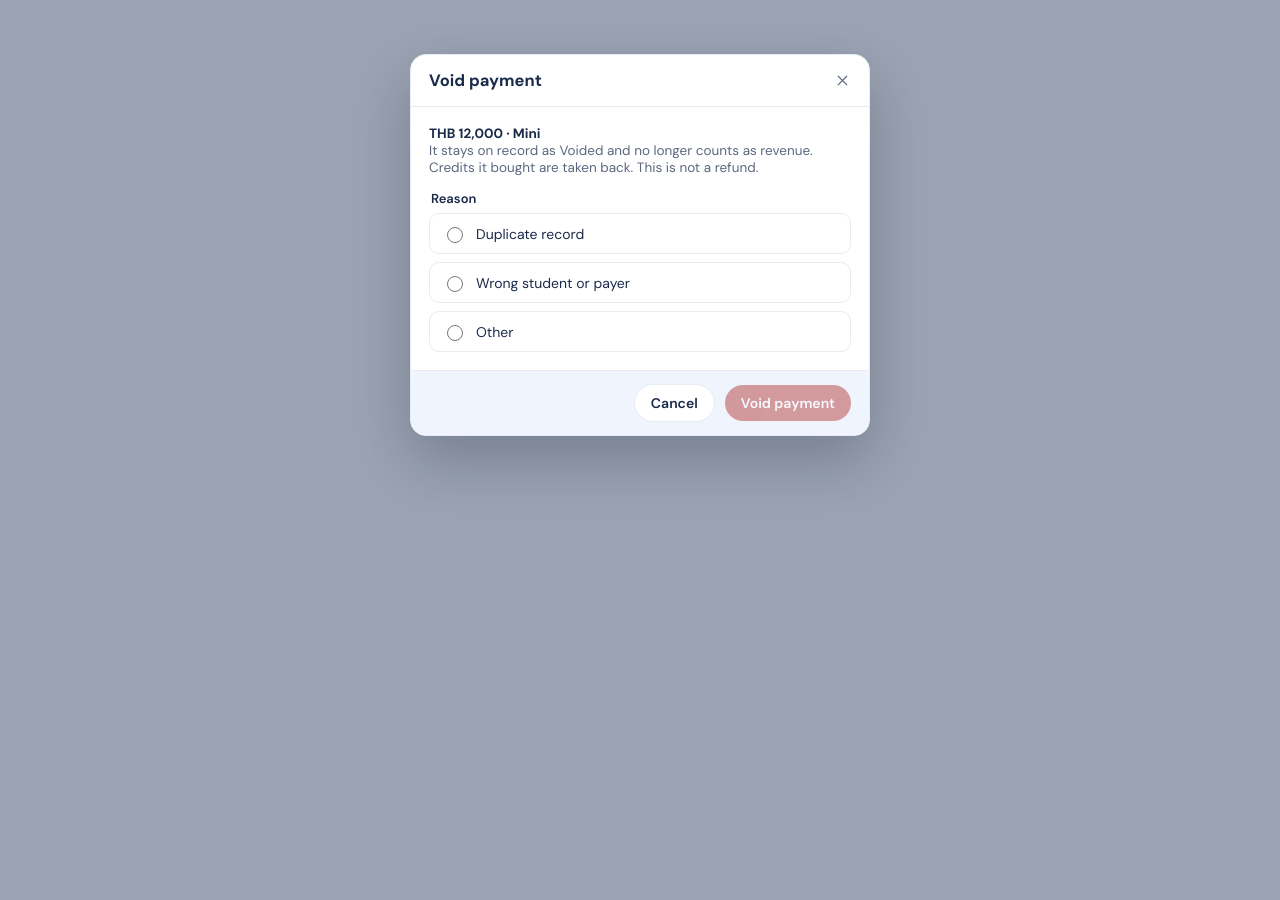
Scenario: the Void payment dialog › asks for words only for Other, and waits for them
Expected: the field labelled "Reason for voiding" is not shown
Step 1. Click the radio button labelled "Other" → coordinates (455, 333), box [447,325,463,341]
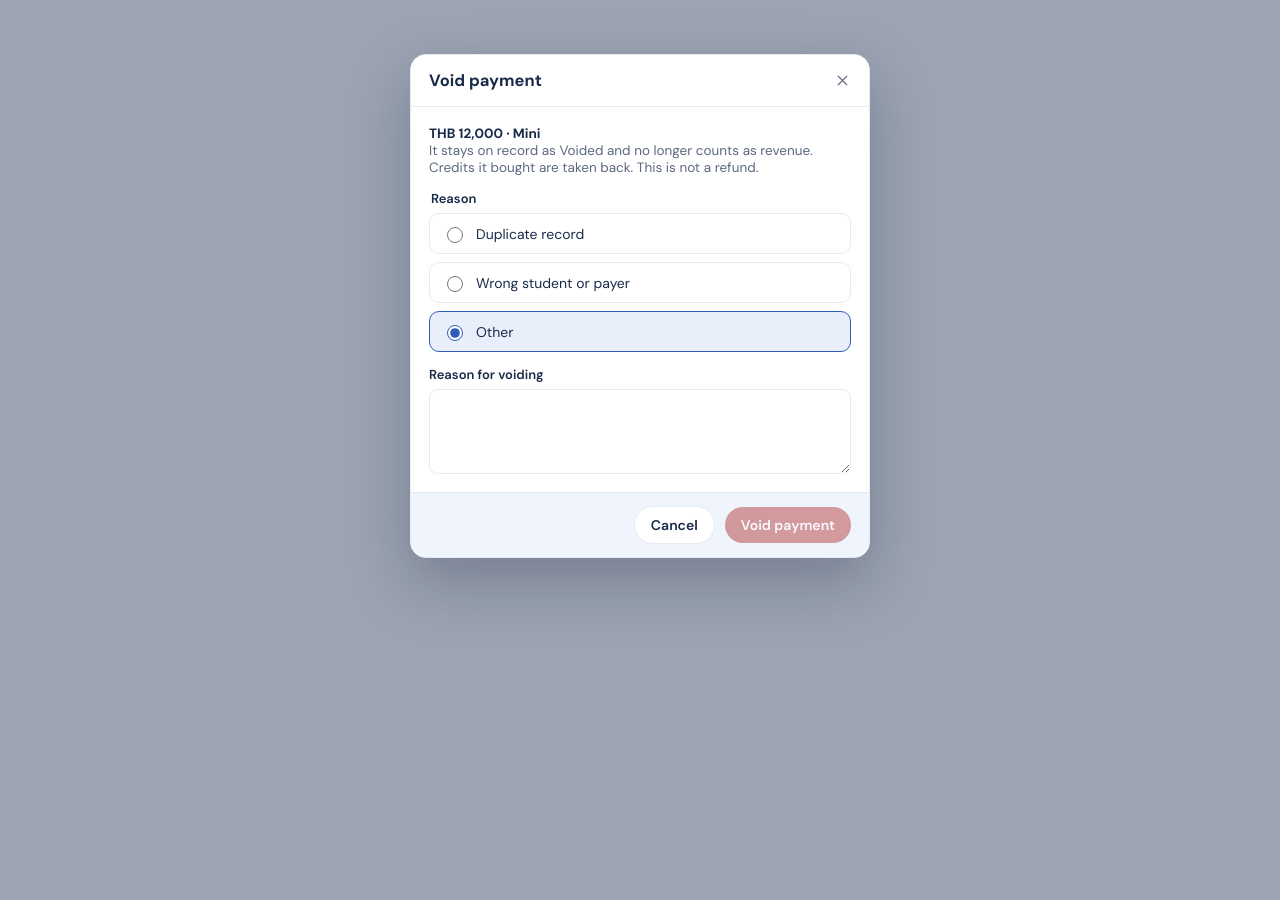
Expected: the button "Void payment" is disabled, [725,507,851,543]
Step 2. Type "Entered for the wrong family" into the text box labelled "Reason for voiding" → coordinates (640, 432), box [429,389,851,474]
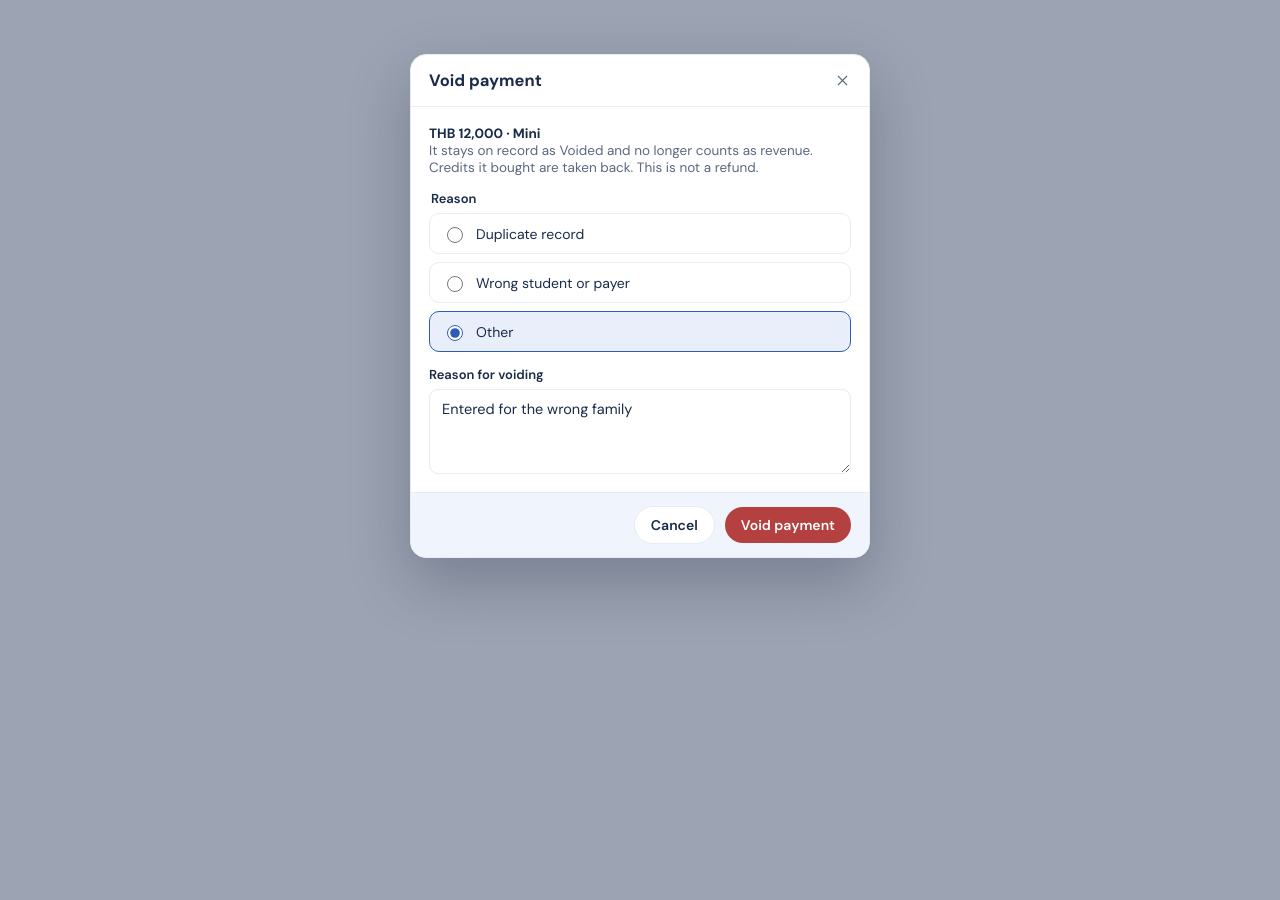
Expected: the button "Void payment" is enabled, [725,507,851,543]
Step 3. Click the radio button labelled "Wrong student or payer" → coordinates (455, 284), box [447,276,463,292]
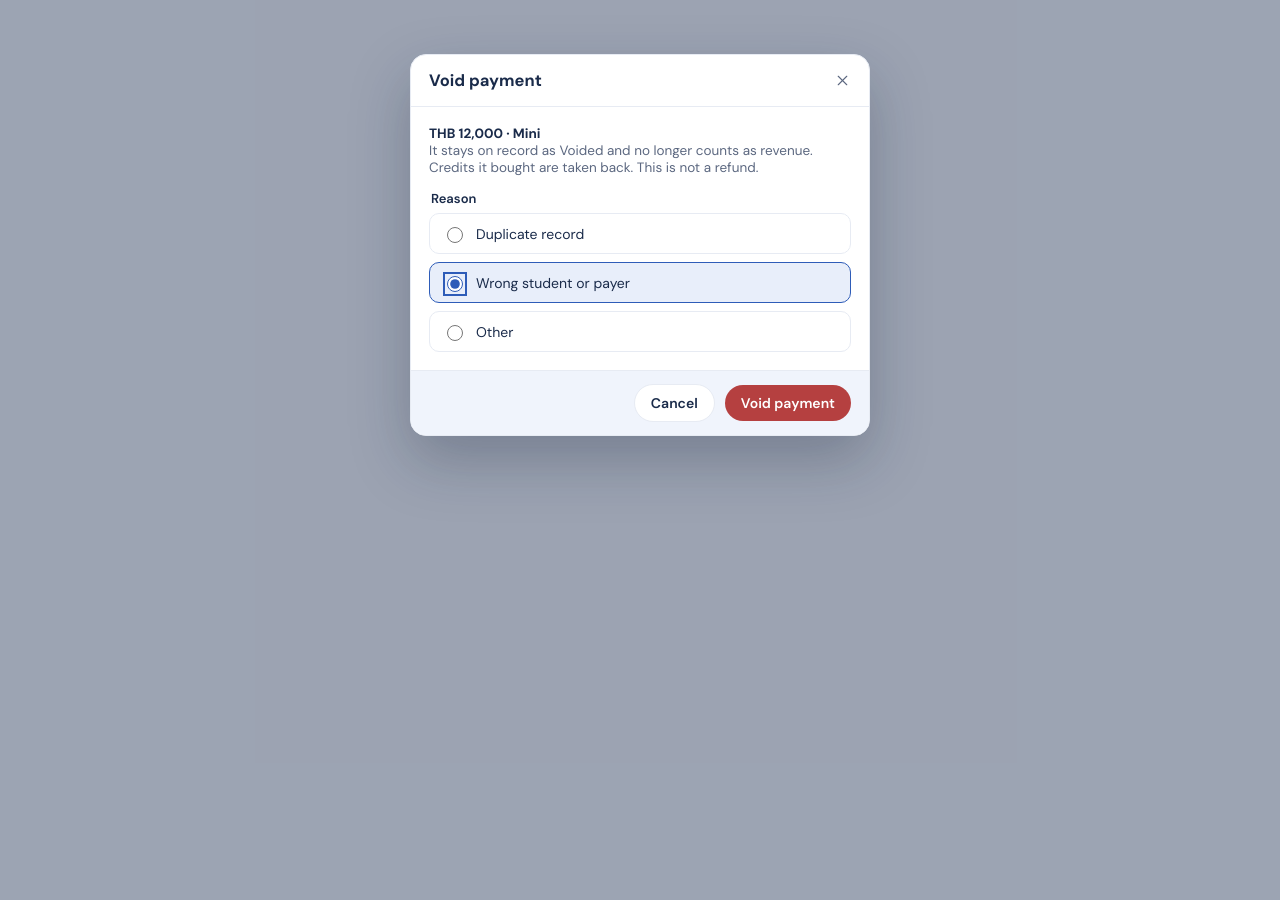
Expected: the label labelled "Reason for voiding" is gone
